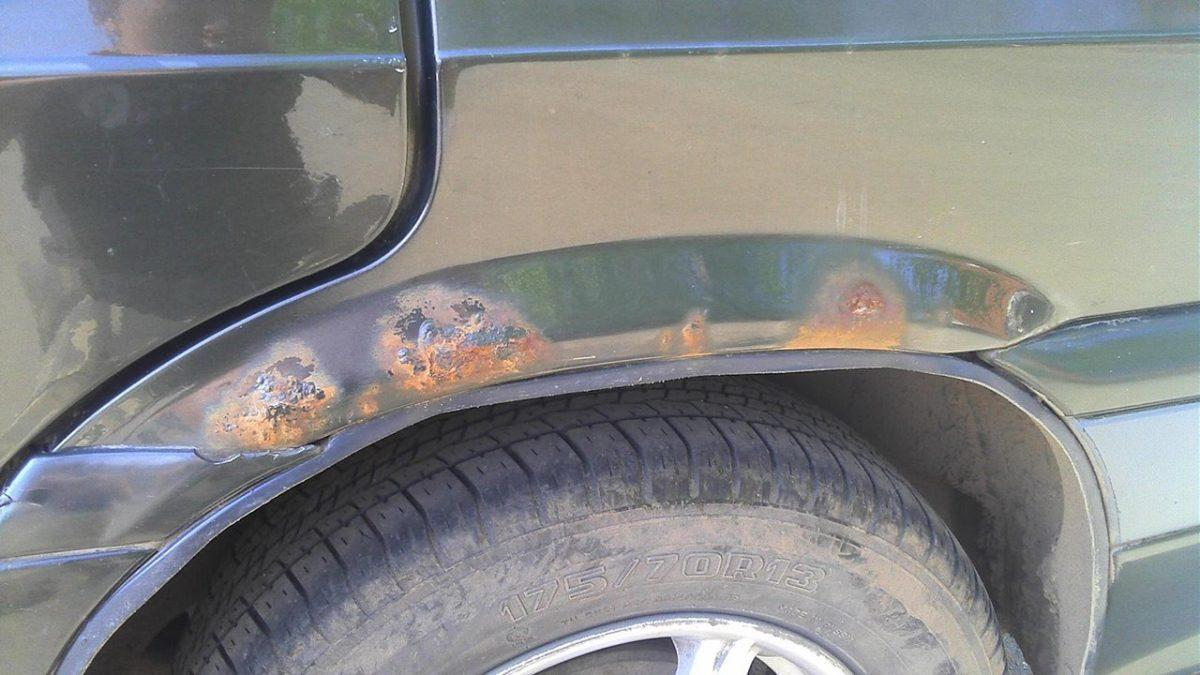corrosion: (378, 285, 549, 391), (205, 343, 341, 451), (786, 264, 908, 350), (657, 308, 711, 356), (355, 385, 383, 418)
